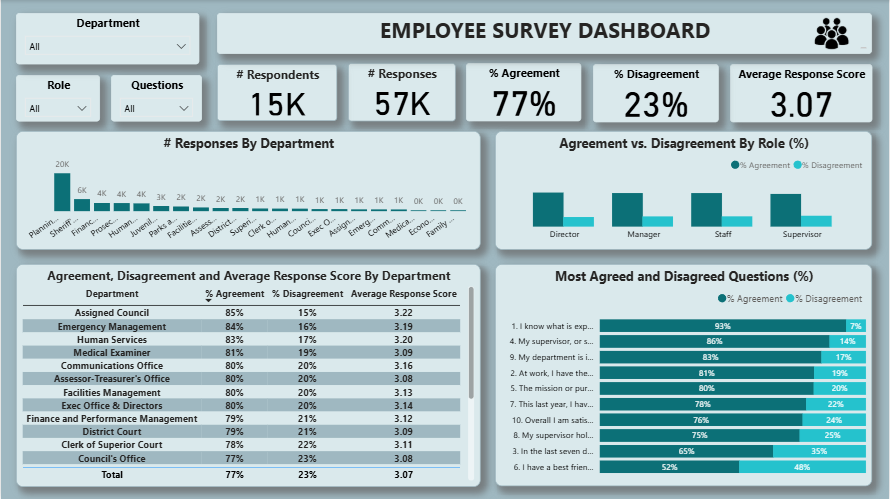

Layout of this report page (visuals, bound fields, positions):
{"tool":"powerbi","page":{"name":"Page 1","canvas":[1280,720],"ordinal":0},"visuals":[{"type":"card","title":"Average Response Score","fields":{"Values":["FactSurvey Reponses.Average Response Score"]},"box":[1049.9,92,204.9,84],"z":0},{"type":"card","title":"# Responses","fields":{"Values":["FactSurvey Reponses.Count of Responses"]},"box":[499.7,90.7,154.5,84],"z":1000},{"type":"card","title":"% Agreement","fields":{"Values":["FactSurvey Reponses.% Agreement"]},"box":[670.2,91.1,166.3,84],"z":2000},{"type":"card","title":"% Disagreement","fields":{"Values":["FactSurvey Reponses.% Disagreement"]},"box":[852.5,91.5,181.4,84],"z":3000},{"type":"slicer","title":"Role","fields":{"Values":["DimRespondents.Role"]},"box":[21.8,107.5,120.9,67.2],"z":4000},{"type":"slicer","title":"Department","fields":{"Values":["DimRespondents.Department"]},"box":[21.8,18.5,263.7,73.9],"z":5000},{"type":"slicer","title":"Questions","fields":{"Values":["DimQuestion.Questions"]},"box":[157.9,107.5,131,67.2],"z":6000},{"type":"hundredPercentStackedBarChart","title":"Most Agreed and Disagreed Questions (%)","fields":{"Category":["DimQuestion.Questions"],"Y":["FactSurvey Reponses.% Agreement","FactSurvey Reponses.% Disagreement"]},"box":[711.4,380.2,542.9,319.7],"z":7000},{"type":"card","title":"# Respondents","fields":{"Values":["Count(DimRespondents.Response ID)"]},"box":[310.8,92.4,173,82.3],"z":8000},{"type":"tableEx","title":"Agreement, Disagreement and Average Response Score By Department","fields":{"Values":["DimRespondents.Department","FactSurvey Reponses.% Agreement","FactSurvey Reponses.% Disagreement","FactSurvey Reponses.Average Response Score"]},"box":[21.8,379.6,668.6,320.8],"z":9000},{"type":"clusteredColumnChart","title":"Agreement vs. Disagreement By Role (%)","fields":{"Category":["DimRespondents.Role"],"Y":["FactSurvey Reponses.% Agreement","FactSurvey Reponses.% Disagreement"]},"box":[711.4,188.6,542.9,171.4],"z":10000},{"type":"clusteredColumnChart","title":"# Responses By Department","fields":{"Category":["DimRespondents.Department"],"Y":["FactSurvey Reponses.Count of Responses"]},"box":[21.8,188.1,668.6,171.3],"z":11000},{"type":"textbox","title":"EMPLOYEE SURVEY DASHBOARD","box":[311,18.7,943.2,59],"z":12000},{"type":"image","box":[1137.6,18.7,116.6,59],"z":12001}]}

Visuals, with their boxes in screenshot pixels (x1, y1, x2, y2), scaled from the page's 1280x720 canvas onto the 890x499 screenshot:
"Average Response Score" card: [left=730, top=64, right=872, bottom=122]
"# Responses" card: [left=347, top=63, right=455, bottom=121]
"% Agreement" card: [left=466, top=63, right=582, bottom=121]
"% Disagreement" card: [left=593, top=63, right=719, bottom=122]
"Role" slicer: [left=15, top=75, right=99, bottom=121]
"Department" slicer: [left=15, top=13, right=199, bottom=64]
"Questions" slicer: [left=110, top=75, right=201, bottom=121]
"Most Agreed and Disagreed Questions (%)" hundredPercentStackedBarChart: [left=495, top=263, right=872, bottom=485]
"# Respondents" card: [left=216, top=64, right=336, bottom=121]
"Agreement, Disagreement and Average Response Score By Department" tableEx: [left=15, top=263, right=480, bottom=485]
"Agreement vs. Disagreement By Role (%)" clusteredColumnChart: [left=495, top=131, right=872, bottom=250]
"# Responses By Department" clusteredColumnChart: [left=15, top=130, right=480, bottom=249]
"EMPLOYEE SURVEY DASHBOARD" textbox: [left=216, top=13, right=872, bottom=54]
image: [left=791, top=13, right=872, bottom=54]
